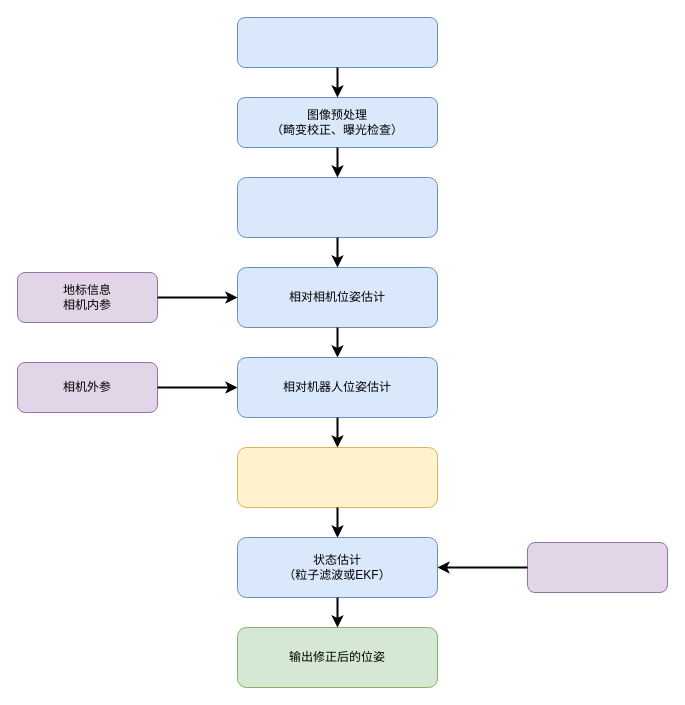
This 685x705 diagram has some shape labels left out. Each missing label, with the centre of its shape:
"地标检测 （ID、角点像素坐标）" belongs at point 337,207.
"相机RGB图像帧" belongs at point 337,42.
"质量检查 （重投影误差、多地标一致性）" belongs at point 337,477.
"运动预测 （里程计/动作指令）" belongs at point 597,567.
